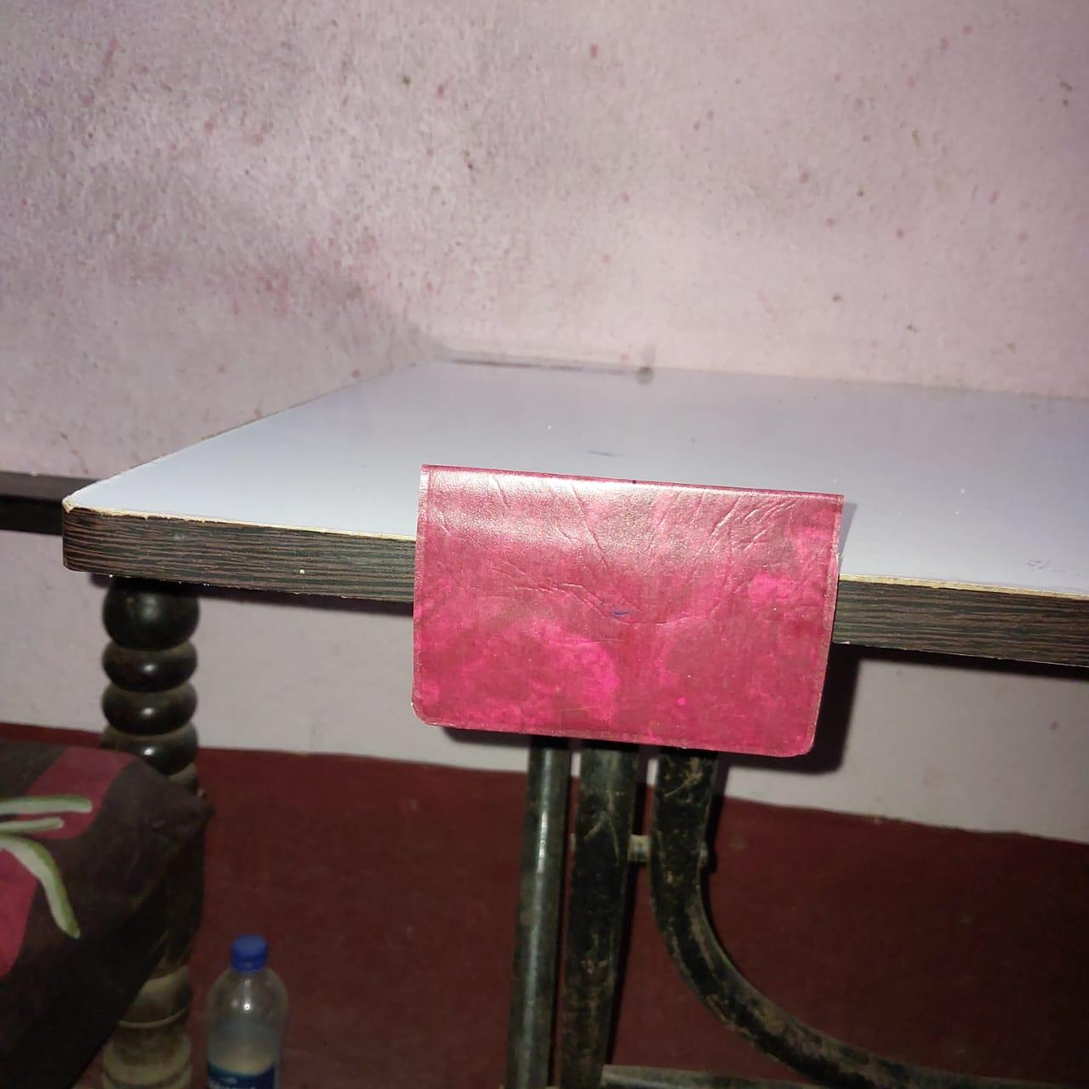wallet: (407, 461, 847, 764)
